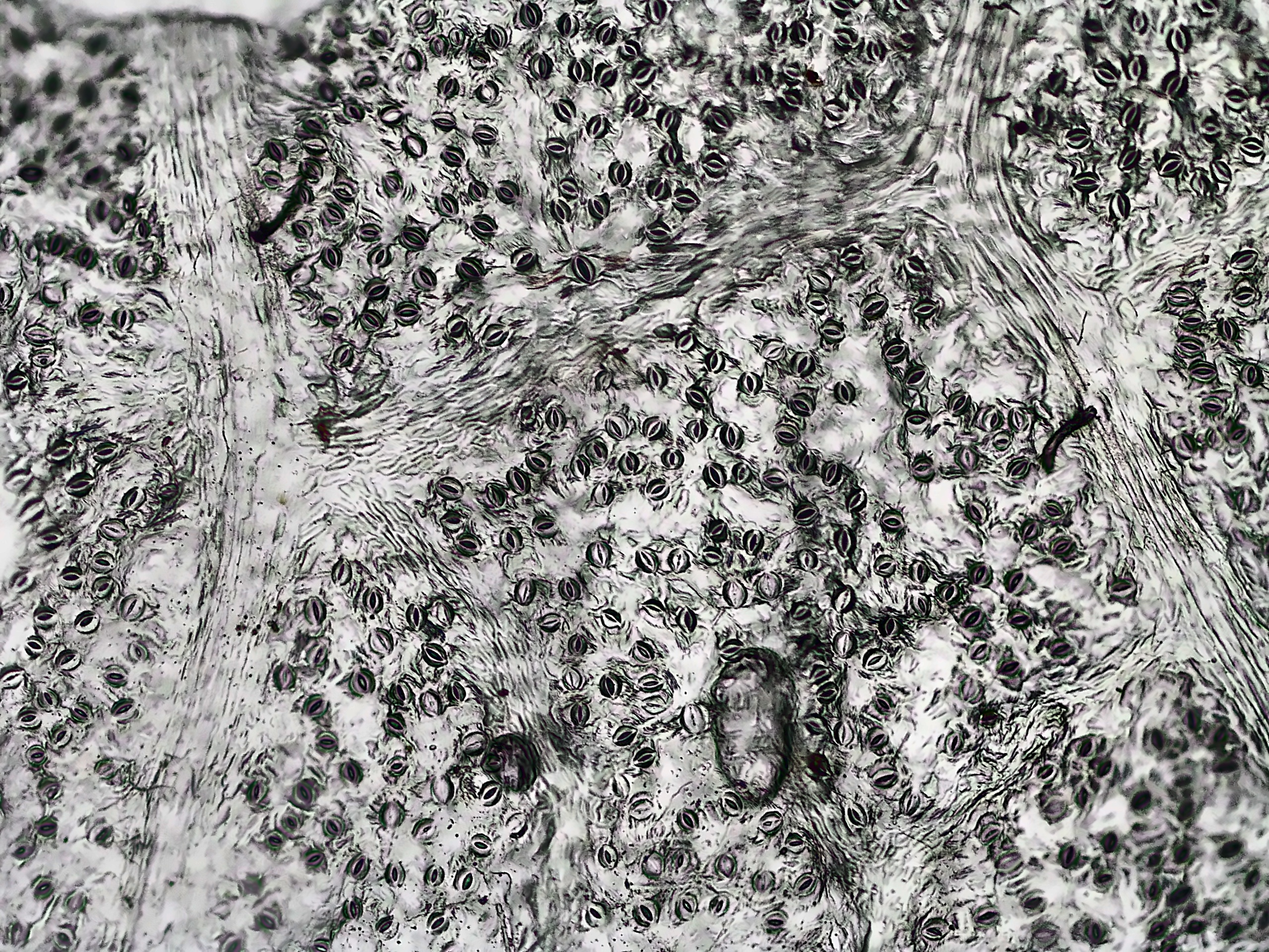stomata: (754, 571, 781, 602), (632, 898, 661, 926), (722, 578, 748, 609), (953, 444, 981, 472), (429, 598, 454, 629), (1128, 7, 1153, 38), (831, 584, 855, 616), (1164, 282, 1196, 306), (585, 542, 614, 568), (877, 508, 906, 534), (429, 773, 454, 803), (681, 704, 705, 735), (847, 70, 871, 101), (622, 92, 649, 119), (453, 866, 479, 894), (860, 293, 888, 319), (1222, 84, 1250, 110), (400, 47, 425, 76), (420, 641, 449, 666), (369, 627, 394, 656), (572, 254, 595, 285), (528, 53, 554, 80), (719, 789, 745, 816), (832, 631, 859, 657), (380, 799, 405, 827), (271, 663, 295, 692), (351, 668, 375, 697), (703, 152, 727, 181), (456, 257, 486, 280), (641, 851, 664, 881), (672, 186, 698, 212), (603, 415, 628, 442), (720, 423, 745, 450), (1163, 72, 1188, 99), (634, 546, 658, 574), (817, 319, 845, 343), (1168, 24, 1191, 53), (98, 518, 128, 540), (1018, 891, 1049, 912), (834, 524, 855, 555), (394, 300, 420, 325), (790, 352, 816, 377), (519, 2, 544, 28), (705, 106, 731, 131), (120, 594, 144, 621), (1157, 153, 1184, 177), (77, 301, 105, 324), (65, 472, 93, 495), (822, 99, 850, 122), (304, 595, 326, 624), (922, 918, 951, 940), (881, 340, 910, 362), (412, 818, 437, 843), (738, 371, 763, 396), (470, 214, 496, 238), (122, 485, 146, 511), (597, 672, 621, 698), (74, 610, 100, 634), (51, 925, 77, 949), (842, 802, 866, 828), (702, 463, 728, 487), (569, 56, 593, 82), (657, 107, 681, 133), (911, 456, 935, 482), (56, 565, 83, 588), (405, 604, 428, 631), (436, 476, 463, 499), (531, 513, 558, 536), (302, 693, 329, 716), (390, 679, 413, 706), (10, 568, 33, 595), (903, 366, 930, 389), (947, 389, 970, 416), (1174, 336, 1205, 356), (36, 527, 64, 549), (305, 643, 327, 671), (102, 665, 130, 687), (595, 20, 617, 48), (1174, 431, 1196, 459), (1109, 190, 1130, 219), (477, 781, 502, 805), (33, 605, 58, 629), (593, 62, 617, 87), (1209, 159, 1233, 184), (1091, 64, 1121, 84), (436, 192, 459, 218), (320, 244, 343, 270), (418, 689, 441, 715), (111, 696, 137, 719), (714, 854, 737, 880), (865, 726, 891, 749), (862, 648, 888, 671), (645, 220, 671, 243), (588, 195, 611, 221), (657, 143, 683, 166), (399, 228, 426, 250), (40, 281, 67, 303), (340, 759, 362, 786), (455, 532, 482, 554), (514, 578, 536, 605), (467, 834, 494, 856), (803, 712, 830, 734), (772, 423, 799, 445), (1125, 54, 1147, 81), (641, 597, 669, 618), (384, 862, 405, 890), (760, 469, 788, 490), (24, 322, 53, 342), (899, 787, 919, 816), (30, 876, 54, 900), (794, 502, 818, 526), (114, 252, 137, 277), (525, 449, 550, 472), (48, 724, 71, 749), (254, 910, 279, 933), (758, 812, 783, 835), (750, 871, 775, 894), (974, 904, 999, 927), (878, 613, 901, 638), (618, 36, 641, 61), (585, 115, 610, 138), (608, 161, 633, 184), (866, 39, 889, 64), (1008, 407, 1031, 432), (460, 732, 486, 754), (347, 854, 369, 880), (584, 901, 606, 927), (792, 873, 818, 895), (761, 912, 787, 934), (789, 394, 815, 416), (834, 380, 856, 406), (792, 20, 814, 46), (508, 468, 529, 495), (331, 557, 351, 585), (8, 839, 36, 859), (1073, 172, 1101, 192), (475, 80, 498, 104), (553, 99, 576, 123), (643, 416, 667, 439), (684, 384, 708, 407), (321, 815, 345, 838), (845, 488, 868, 512), (873, 554, 896, 578), (1048, 635, 1072, 658), (512, 248, 537, 270), (500, 526, 522, 551), (21, 635, 46, 657), (55, 650, 80, 672), (632, 62, 657, 84), (807, 269, 832, 291), (668, 548, 690, 573), (1239, 363, 1264, 385), (1191, 360, 1216, 382), (481, 325, 507, 346), (91, 552, 117, 573), (363, 586, 384, 612), (561, 664, 582, 690), (670, 848, 691, 874), (676, 893, 697, 919), (557, 12, 578, 38), (743, 528, 764, 554), (717, 639, 743, 660), (796, 450, 817, 476), (1006, 569, 1027, 595), (569, 455, 589, 482), (646, 363, 666, 390), (627, 800, 654, 820), (1107, 579, 1134, 599), (343, 894, 362, 922), (870, 767, 898, 786), (835, 720, 854, 748), (632, 747, 655, 770), (939, 582, 962, 605), (550, 199, 572, 223), (1058, 842, 1080, 866), (943, 730, 965, 754), (646, 177, 668, 201), (750, 61, 772, 85), (1216, 318, 1240, 340), (485, 23, 506, 48), (414, 266, 435, 291), (485, 482, 506, 507), (705, 349, 726, 374), (590, 484, 615, 505), (678, 807, 699, 832), (822, 461, 843, 486), (440, 510, 466, 530), (68, 702, 94, 722), (638, 672, 664, 692), (909, 591, 929, 617), (1005, 458, 1031, 478), (1120, 103, 1140, 129), (546, 406, 565, 433), (571, 700, 590, 727), (1007, 609, 1034, 628), (3, 472, 30, 491), (496, 179, 518, 202), (402, 135, 425, 157), (437, 76, 460, 98), (368, 245, 391, 267), (365, 277, 388, 299), (585, 437, 607, 460), (674, 330, 696, 353), (315, 731, 338, 753), (384, 713, 407, 735), (631, 641, 654, 663), (796, 548, 818, 571), (959, 605, 981, 628), (645, 478, 669, 499), (480, 753, 504, 774), (559, 577, 580, 601), (732, 462, 753, 486), (1179, 312, 1207, 330), (88, 823, 113, 843), (1064, 129, 1089, 149), (642, 695, 668, 714), (1231, 250, 1257, 269), (1239, 137, 1265, 156), (537, 613, 564, 631), (911, 299, 938, 317), (112, 307, 134, 329), (546, 137, 568, 159), (92, 576, 114, 598), (426, 912, 448, 934), (359, 309, 382, 330), (38, 687, 59, 710), (24, 745, 47, 766), (34, 817, 57, 838), (908, 558, 929, 581), (981, 407, 1002, 430), (1119, 147, 1140, 170), (597, 844, 617, 868), (710, 893, 730, 917), (761, 340, 785, 360), (841, 248, 865, 268), (967, 499, 987, 523), (1232, 288, 1257, 307), (411, 6, 432, 28), (686, 419, 707, 441), (385, 755, 407, 776), (783, 833, 805, 854), (779, 90, 801, 111), (904, 256, 925, 278), (969, 639, 990, 661), (398, 228, 421, 248), (49, 442, 72, 462), (5, 369, 28, 389), (618, 451, 638, 474), (701, 545, 724, 565), (1042, 500, 1065, 520), (678, 606, 695, 633), (294, 781, 313, 805), (16, 711, 40, 730), (768, 22, 787, 46), (906, 413, 930, 432), (989, 431, 1013, 450), (1227, 428, 1251, 447), (439, 146, 464, 164), (0, 669, 25, 687), (817, 682, 838, 703), (707, 518, 728, 539), (332, 346, 352, 368), (90, 198, 110, 220), (981, 823, 1003, 843), (872, 691, 892, 713), (662, 449, 685, 468), (95, 759, 118, 778), (612, 726, 635, 745), (304, 116, 328, 134), (448, 679, 466, 703), (612, 774, 630, 798), (302, 137, 327, 154), (431, 113, 456, 130), (356, 224, 381, 241), (267, 140, 288, 160), (301, 157, 321, 178), (333, 181, 354, 201), (128, 642, 149, 662), (473, 124, 495, 143), (320, 307, 342, 326), (29, 349, 55, 365), (467, 50, 490, 68), (18, 163, 41, 181), (568, 633, 586, 656), (383, 172, 400, 196), (1087, 917, 1104, 941), (430, 36, 450, 56), (292, 219, 312, 239), (248, 781, 267, 802), (424, 864, 443, 885), (321, 206, 343, 224), (447, 314, 465, 336), (831, 30, 853, 48), (998, 657, 1020, 675), (1093, 870, 1115, 888), (1200, 398, 1224, 414), (112, 142, 132, 161), (1036, 763, 1056, 782), (790, 601, 810, 620), (980, 709, 1000, 728), (560, 177, 578, 198), (807, 295, 828, 313), (95, 444, 117, 461), (600, 609, 622, 626), (380, 106, 403, 122), (374, 916, 393, 935), (293, 184, 311, 204), (262, 170, 283, 187), (596, 370, 613, 391), (1051, 537, 1070, 555), (282, 812, 299, 832), (1076, 737, 1093, 757), (368, 28, 389, 44), (781, 66, 802, 82), (302, 850, 324, 865), (971, 563, 988, 582), (321, 82, 337, 102), (1103, 831, 1117, 853), (345, 102, 363, 119), (1022, 520, 1038, 539), (471, 180, 486, 200), (79, 244, 94, 264), (266, 833, 285, 848), (158, 484, 178, 498), (49, 237, 65, 254), (1205, 430, 1221, 447), (449, 27, 464, 45), (1149, 921, 1166, 936), (134, 221, 148, 238)
